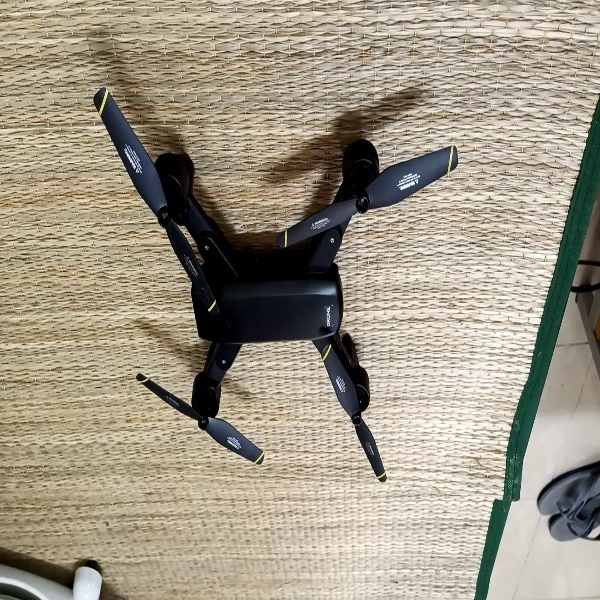drone: (90, 82, 461, 494)
